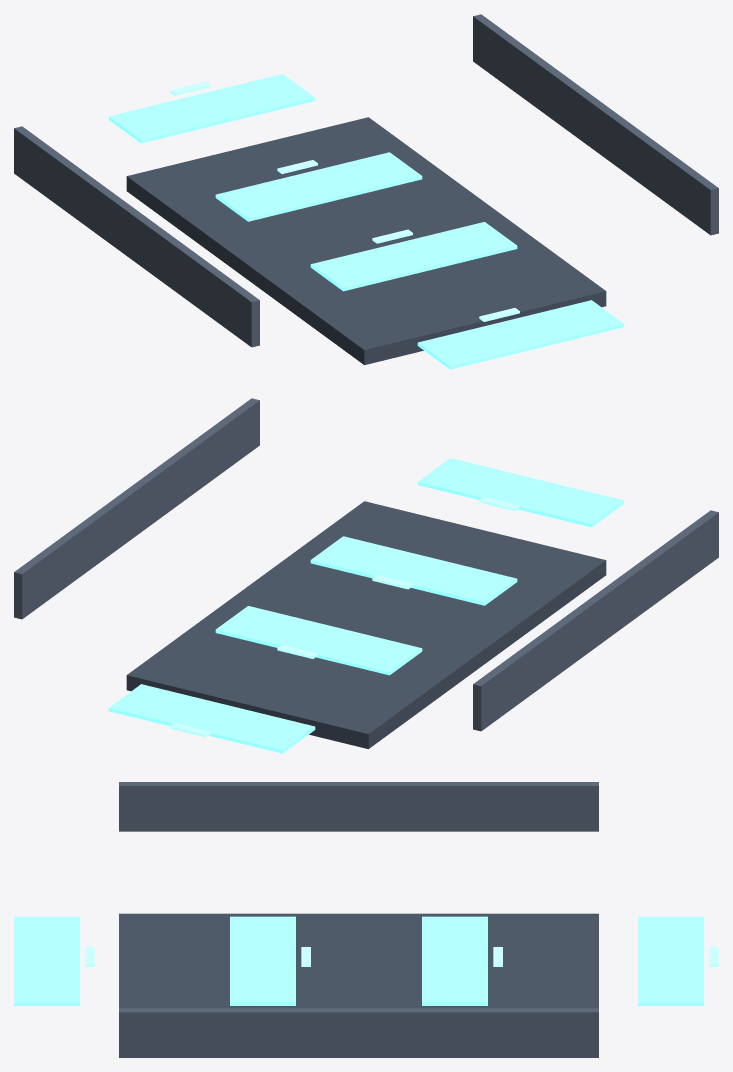
The model's file is track_boost.glb.
3 renders of one model, top to bottom at view 1: azimuth 30°, elevation 25°; view 2: azimuth 150°, elevation 25°; view 3: azimuth 270°, elevation 25°, orthographic.
Visible parts, largest first — view 1: Track_Boost_Deck, Track_Boost, Track_Boost_Rail_L, Track_Boost_Rail_R; view 2: Track_Boost_Deck, Track_Boost, Track_Boost_Rail_L, Track_Boost_Rail_R; view 3: Track_Boost_Deck, Track_Boost, Track_Boost_Rail_L, Track_Boost_Rail_R.
Boxes of the visible parts, x1=… form: Track_Boost_Deck: x1=126, y1=117, x2=606, y2=364; Track_Boost: x1=108, y1=74, x2=624, y2=369; Track_Boost_Rail_L: x1=14, y1=126, x2=259, y2=347; Track_Boost_Rail_R: x1=473, y1=14, x2=718, y2=235; Track_Boost_Deck: x1=126, y1=501, x2=606, y2=748; Track_Boost: x1=108, y1=458, x2=624, y2=753; Track_Boost_Rail_L: x1=473, y1=510, x2=718, y2=731; Track_Boost_Rail_R: x1=14, y1=398, x2=259, y2=619; Track_Boost_Deck: x1=119, y1=913, x2=598, y2=1008; Track_Boost: x1=14, y1=916, x2=718, y2=1005; Track_Boost_Rail_L: x1=119, y1=782, x2=598, y2=831; Track_Boost_Rail_R: x1=119, y1=1008, x2=598, y2=1057.
Size of the model in its own units: 2.27 by 0.42 by 2.94.
